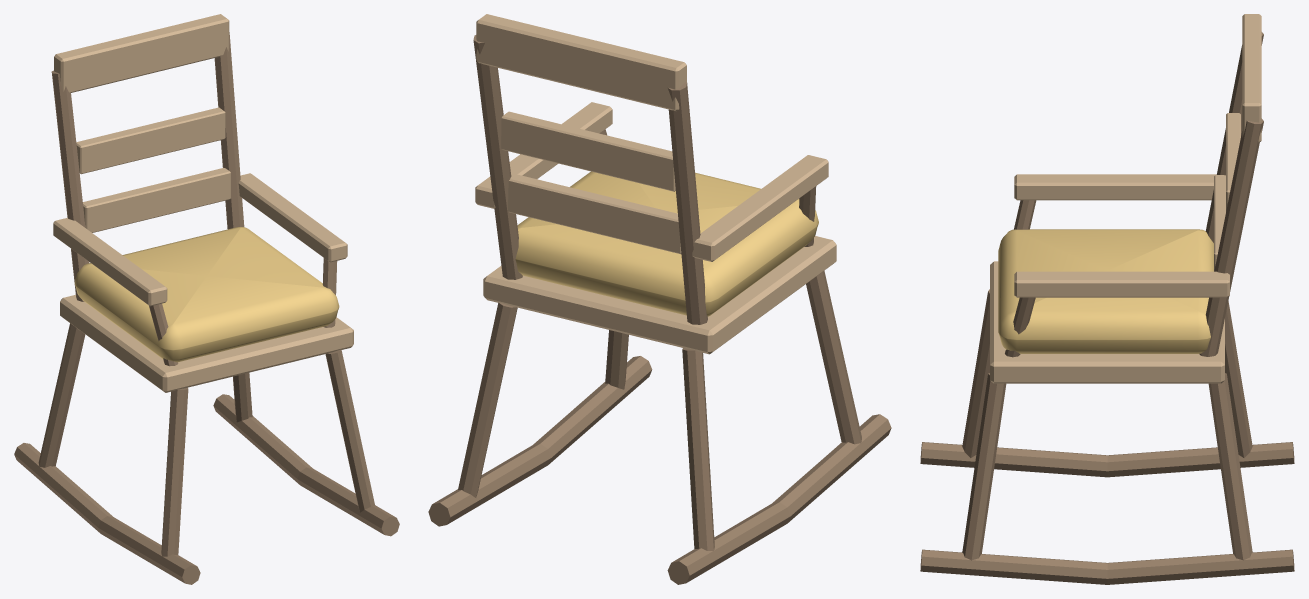
Rendered from rocking_chair.glb.
The picture shows the model from 3 angles, left to right: view 1: azimuth 30°, elevation 25°; view 2: azimuth 150°, elevation 25°; view 3: azimuth 270°, elevation 25°; orthographic projection. The views are drawn at different scales.
Visible parts, largest first — view 1: rocking-chair-timber; view 2: rocking-chair-timber; view 3: rocking-chair-timber.
Part boxes in pixels (bbox=[...]): rocking-chair-timber: bbox=[14, 14, 399, 584]; rocking-chair-timber: bbox=[428, 14, 891, 584]; rocking-chair-timber: bbox=[920, 14, 1294, 584].
Size of the model in its own units: 0.568 by 1.06 by 0.7638.
